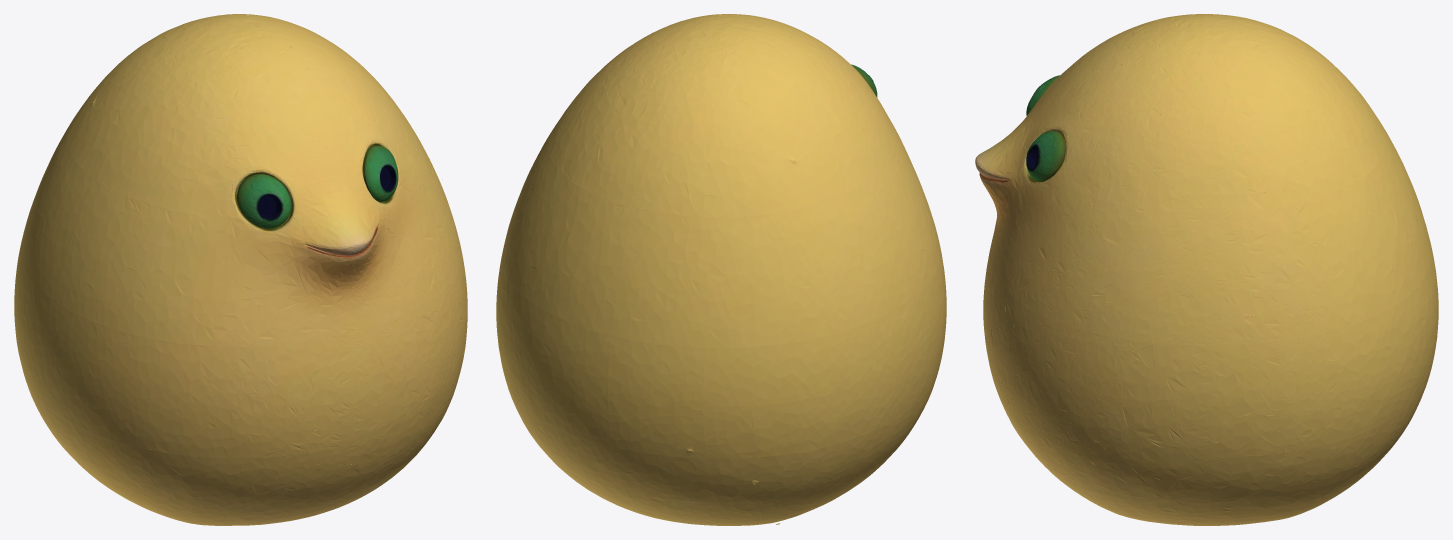
File: naidan.glb
The picture shows the model from 3 angles, left to right: view 1: azimuth 30°, elevation 25°; view 2: azimuth 150°, elevation 25°; view 3: azimuth 270°, elevation 25°; orthographic projection.
Visible parts, largest first — view 1: geometry_0; view 2: geometry_0; view 3: geometry_0.
Part boxes in pixels (x1,y1,x2,y2): geometry_0: (14, 14, 467, 525); geometry_0: (496, 14, 946, 525); geometry_0: (975, 14, 1438, 525).
Bounding box in the file's own units: 0.9025 × 1 × 0.932.
Materials: 1 (1 with a texture image).
